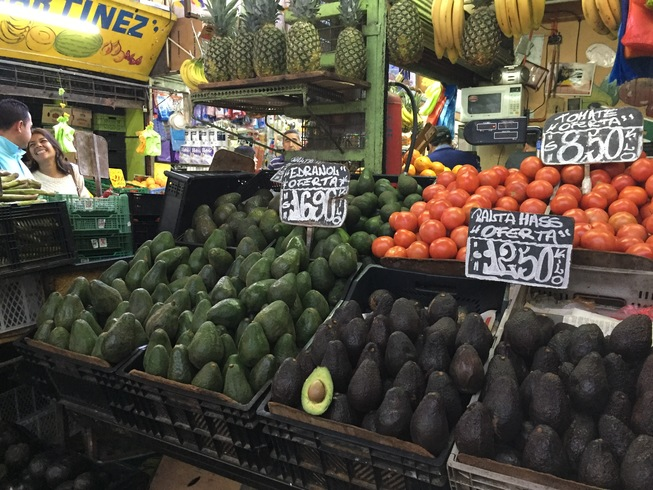precio: (468, 205, 571, 294), (541, 106, 647, 168), (273, 153, 349, 230)
